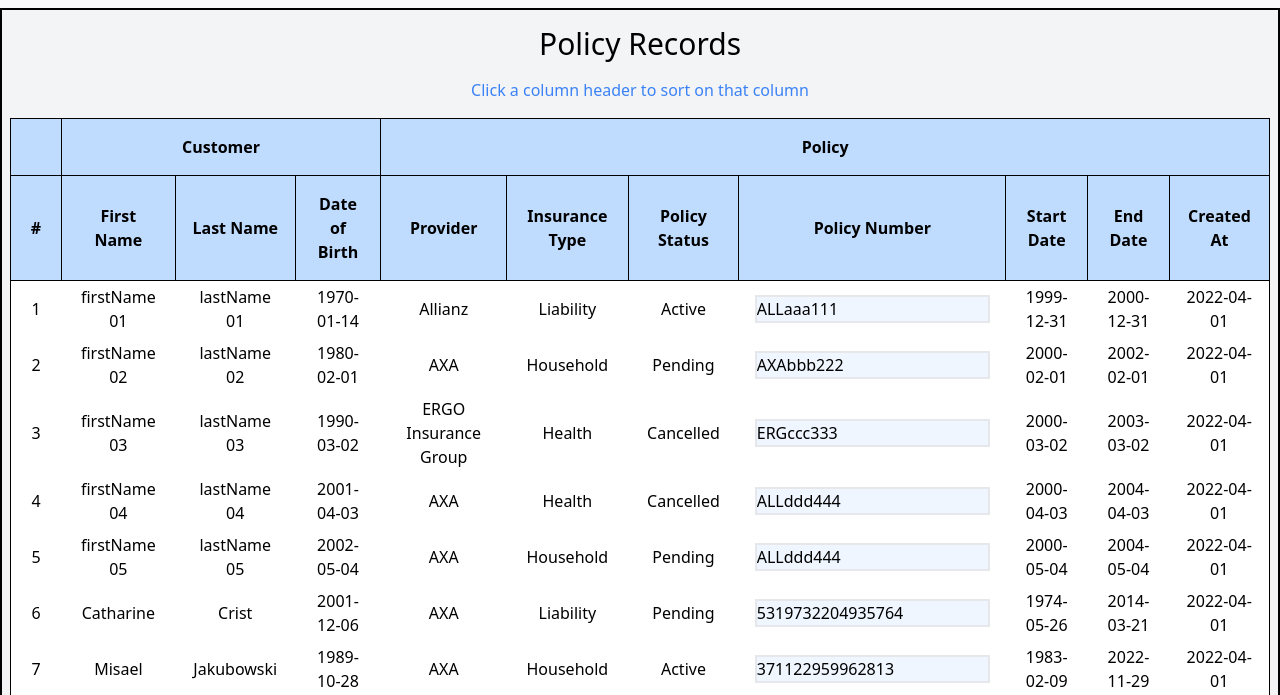
Test: it should edit one field › should handle empty policy number value
The width and height of the screenshot is (1280, 695).
Clear the field named "policyNumber" in the row of "firstName 01" at (872, 309), box [755,295,990,323]
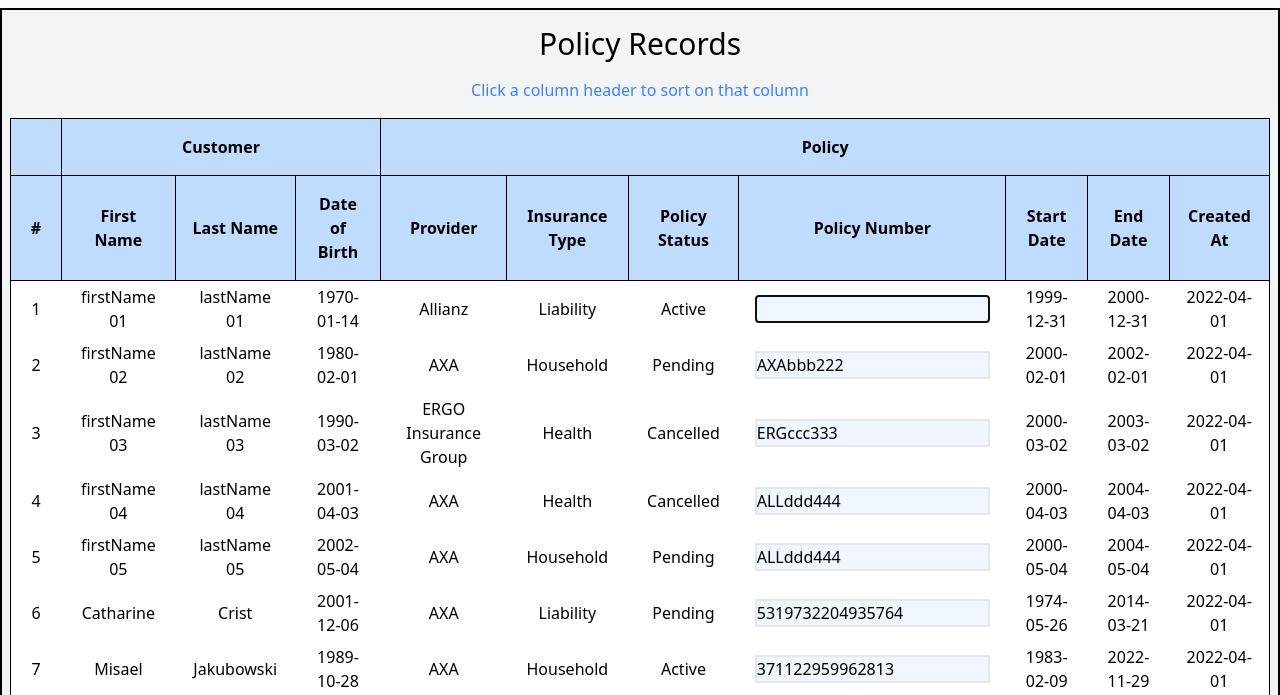
Press Tab
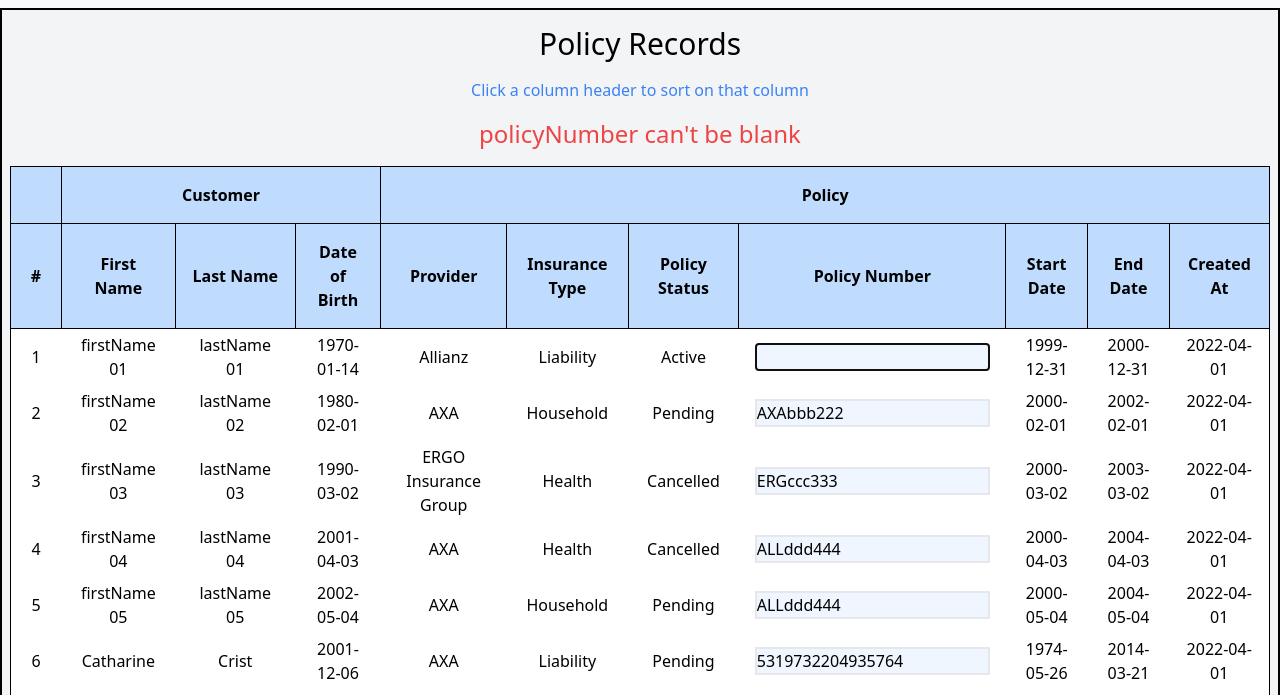
Expected: the message named "flash-error-display" reads "policyNumber can't be blank", [479,117,801,150]
